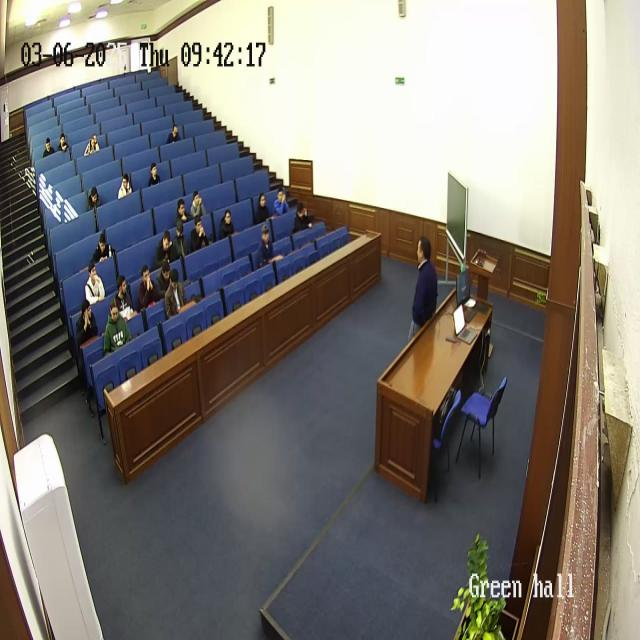person: (409, 236, 439, 340), (102, 299, 130, 353), (163, 269, 189, 319), (136, 263, 158, 315), (75, 300, 98, 348), (114, 275, 137, 321), (84, 263, 106, 308), (258, 225, 281, 267), (155, 230, 177, 268), (189, 216, 210, 253), (93, 232, 115, 267), (293, 203, 313, 236), (174, 196, 192, 228), (217, 209, 235, 240), (256, 191, 272, 224), (272, 187, 290, 216), (189, 191, 206, 221), (117, 172, 133, 200), (86, 186, 102, 212), (147, 162, 162, 188), (84, 132, 100, 156), (57, 131, 71, 153), (41, 136, 55, 157), (166, 124, 180, 145)
